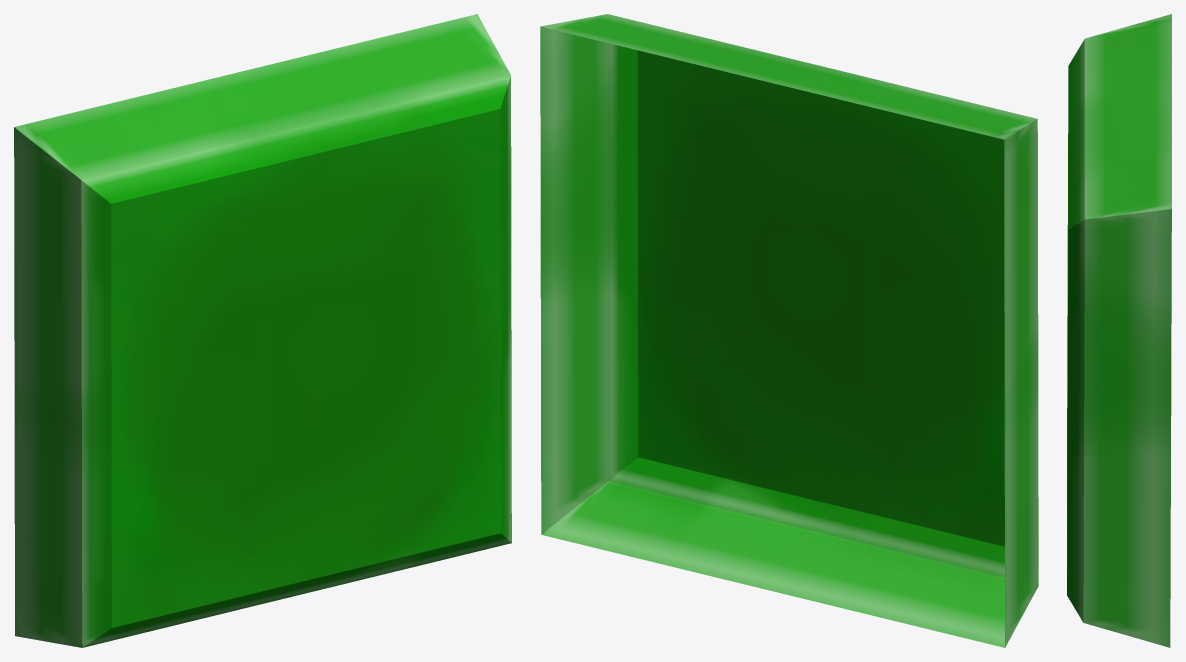
File: PadNumber_Blank.FBX
3 views of the same model, side by side, from view 1: azimuth 30°, elevation 25°; view 2: azimuth 150°, elevation 25°; view 3: azimuth 270°, elevation 25° (orthographic). The views are drawn at different scales.
Visible parts, largest first — view 1: EmptyKey; view 2: EmptyKey; view 3: EmptyKey.
Part boxes in pixels (left/top/right/bottom): EmptyKey: left=14, top=14, right=511, bottom=647; EmptyKey: left=540, top=14, right=1038, bottom=647; EmptyKey: left=1067, top=14, right=1171, bottom=647.
Bounding box in the file's own units: 5.37 × 5.63 × 1.22.
Materials: 1 (1 with a texture image).
